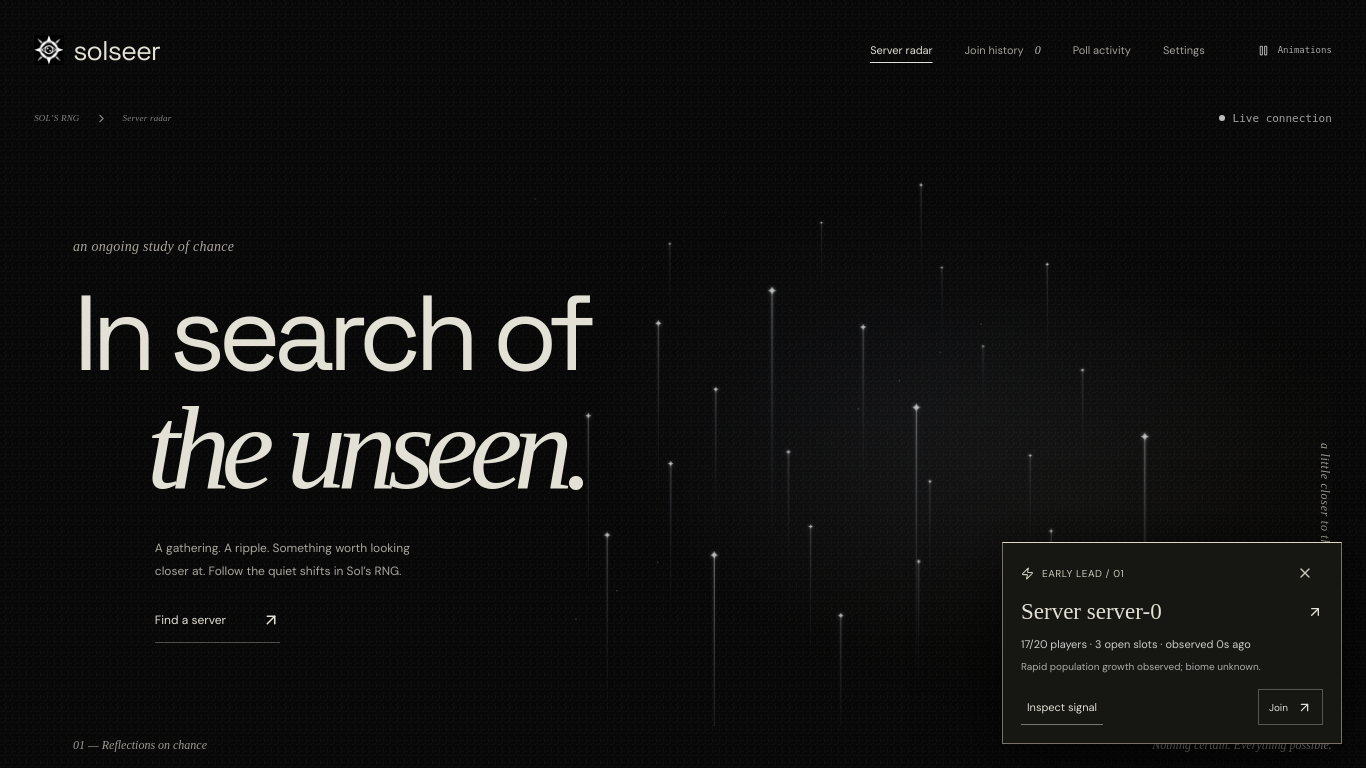
population-first carousel leaves fresh actionable notification priority unchanged
The image size is (1366, 768).
Click the button named "Dismiss early lead" at (1305, 573), box [1287, 555, 1323, 591]
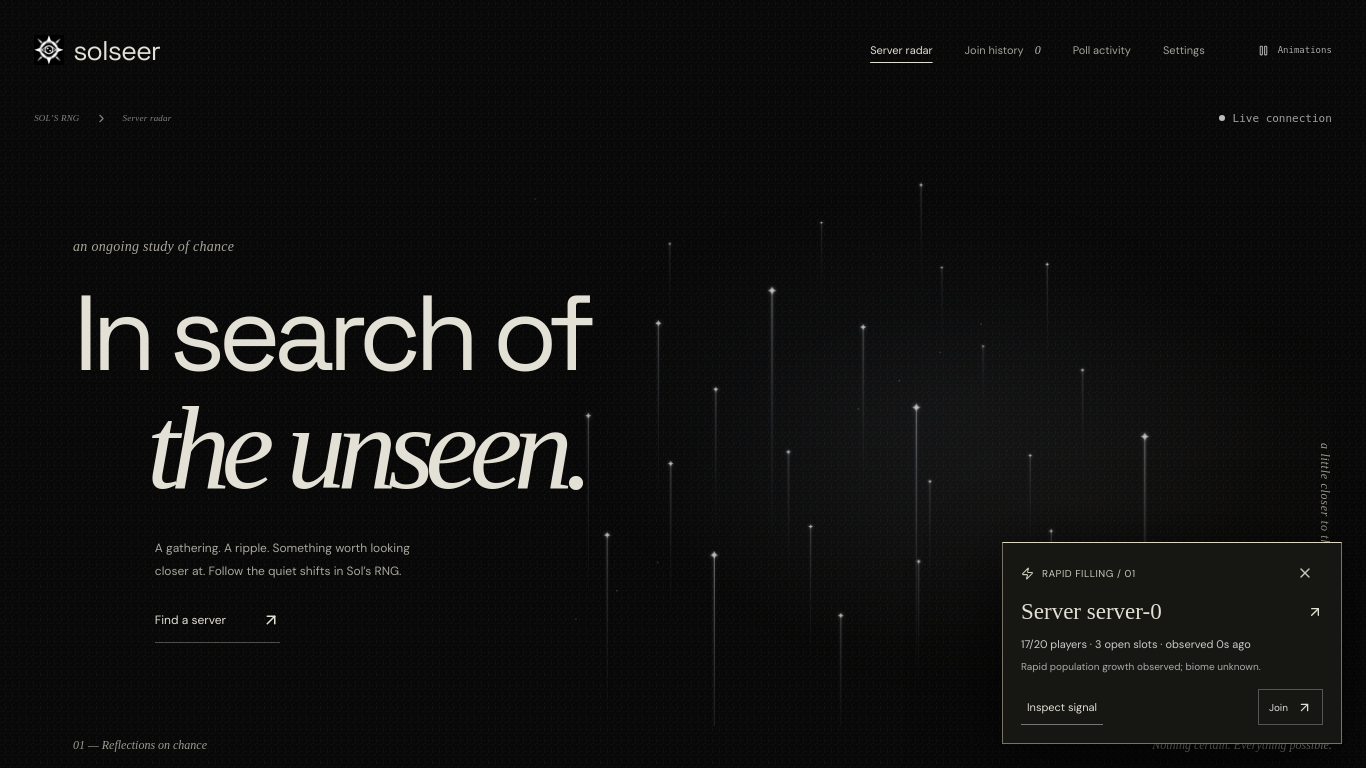
Expected: the element named "Strong signal notification" is shown, [1002, 542, 1342, 744]
